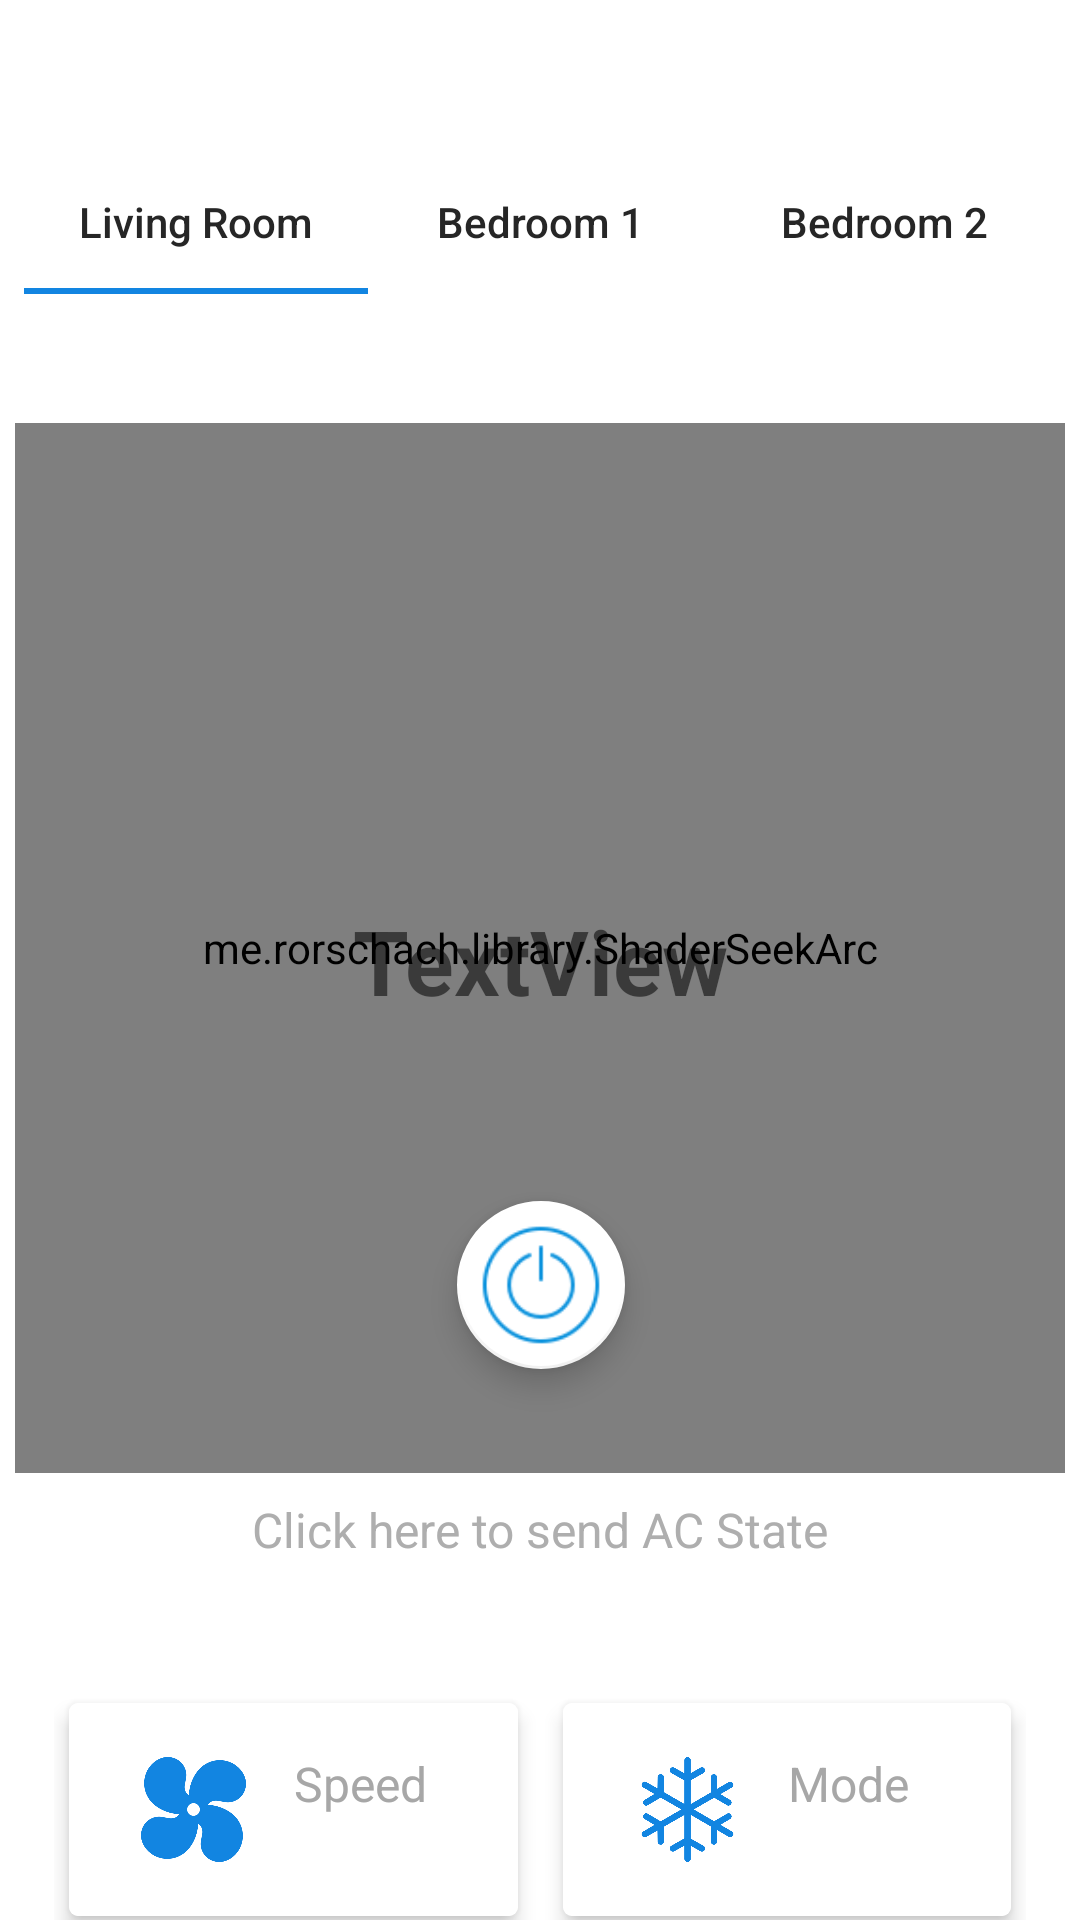

Icon bounding boxes for this 1080w x 1920h phone screenshot, format [x1, y1, x2, y2]:
snowflake: [641, 1757, 734, 1862]
stand by: [457, 1201, 625, 1369]
